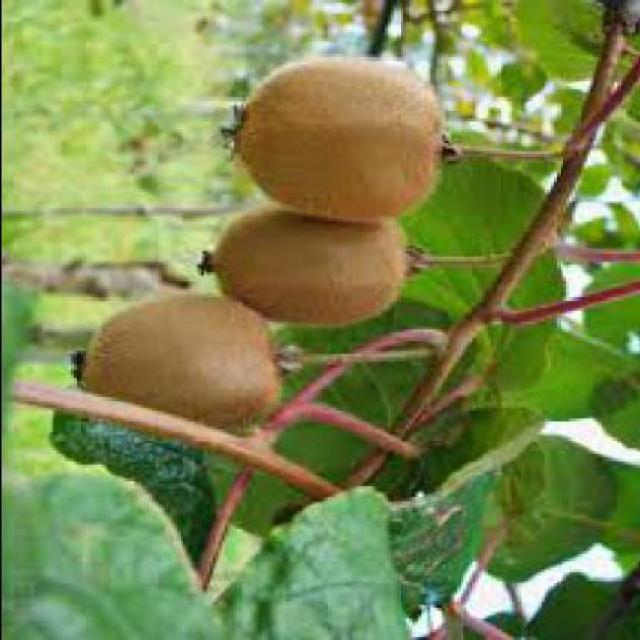BIODEGRADABLE: (235, 57, 442, 223), (82, 298, 282, 432), (208, 206, 406, 328)
